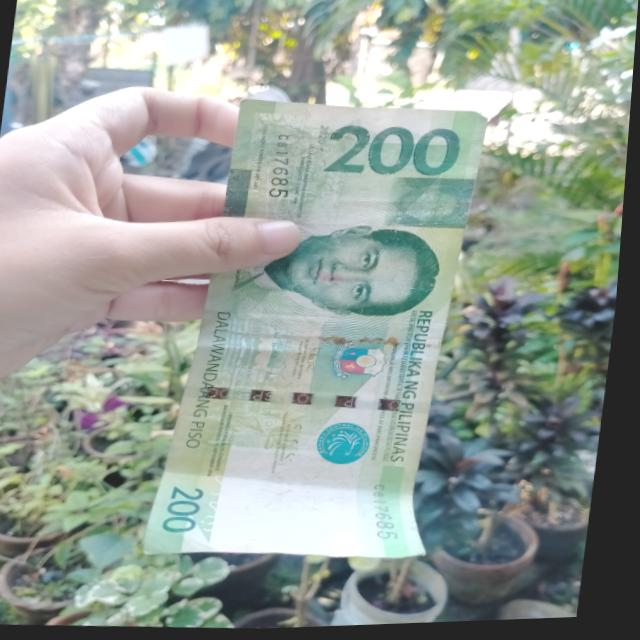concealed_value: (386, 178, 476, 234)
security_thread: (189, 377, 434, 429)
see_through_mark: (200, 463, 246, 540)
serial_number: (363, 475, 419, 549), (265, 129, 304, 206)
value: (322, 120, 468, 185)
